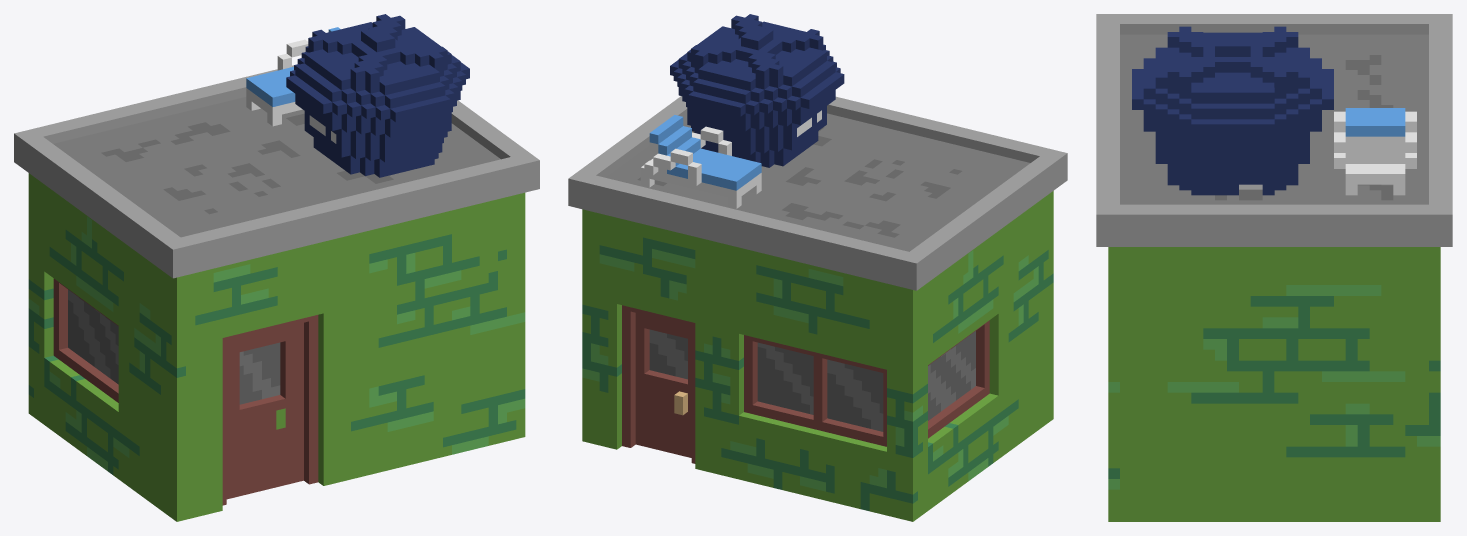
Rendered from variaçõesdecorcasa-7.obj.
3 views of the same model, side by side, from view 1: azimuth 30°, elevation 25°; view 2: azimuth 150°, elevation 25°; view 3: azimuth 270°, elevation 25° (orthographic). The views are drawn at different scales.
Bounding box in the file's own units: 4 × 4 × 3.
1 material, 1 textured.
